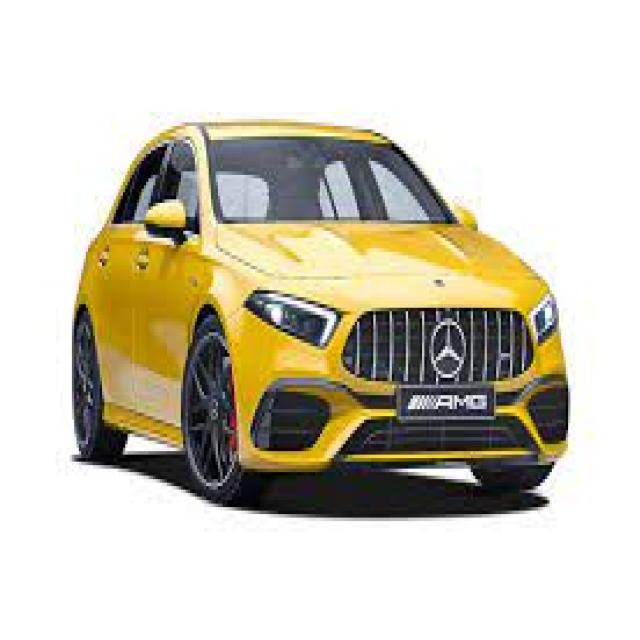Car: (65, 102, 575, 530)
